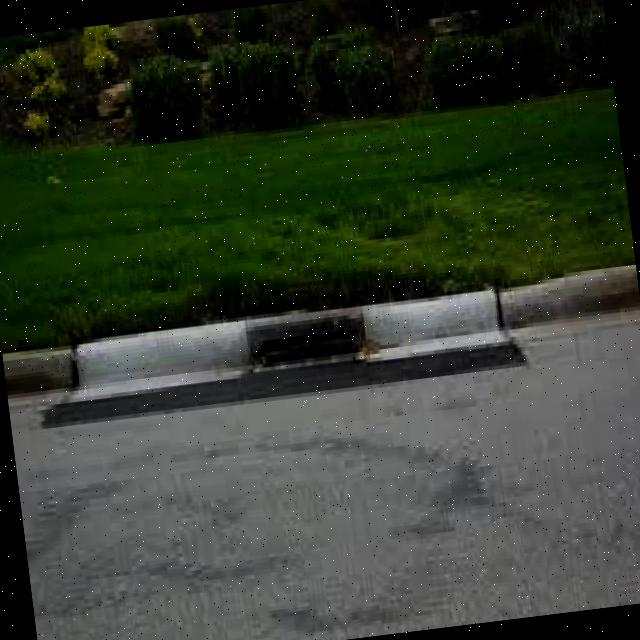curb: (1, 265, 640, 400)
